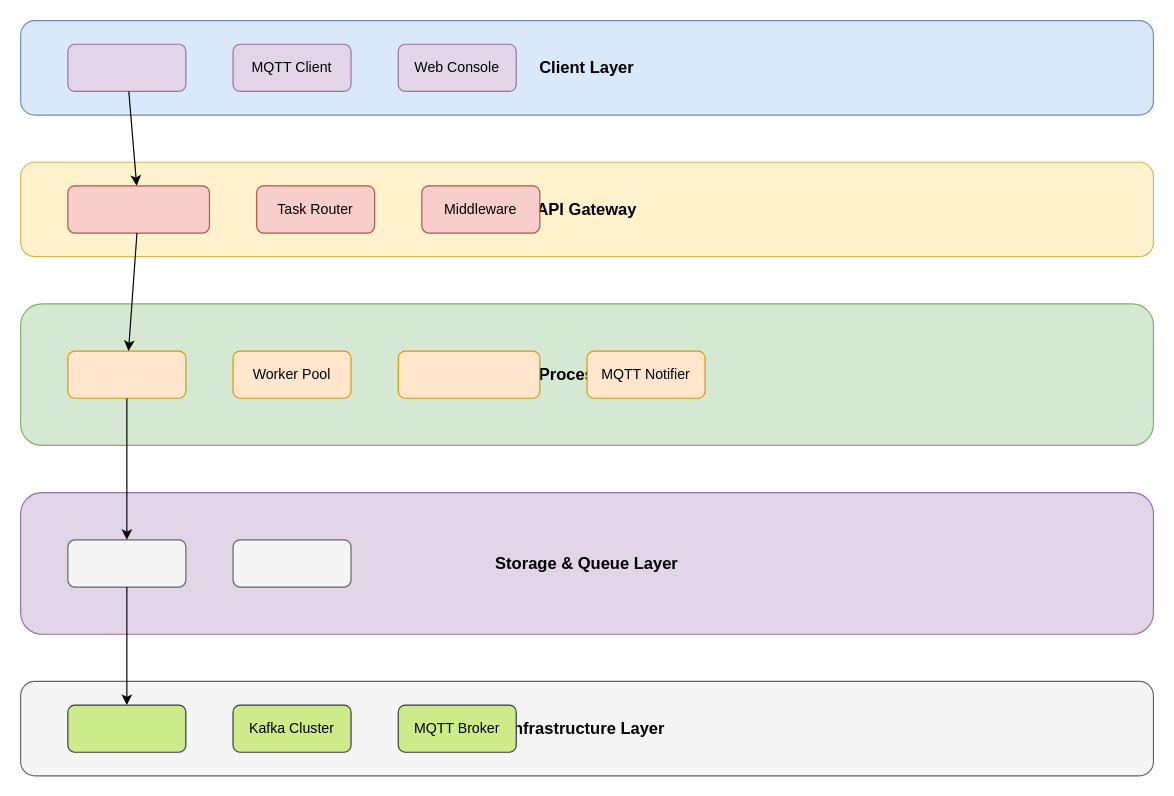
Some shapes in this 1174 by 796 pixel diagram are drawn without their labels. The shapes that lost their labels are listed below. From the top down, each one's centre as x and y in pixels, then its label:
(126,67): HTTP Client
(138,209): HTTP API Handler
(126,374): Task Manager
(468,374): Semaphore Manager
(126,563): Redis Storage
(291,563): Kafka Queue
(126,728): Redis Cluster
